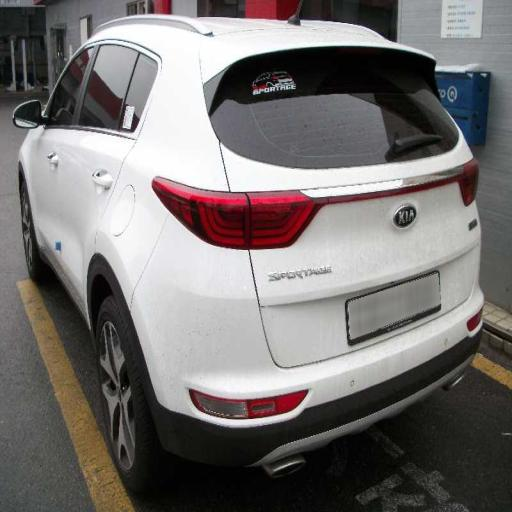normal: (6, 10, 500, 480)
